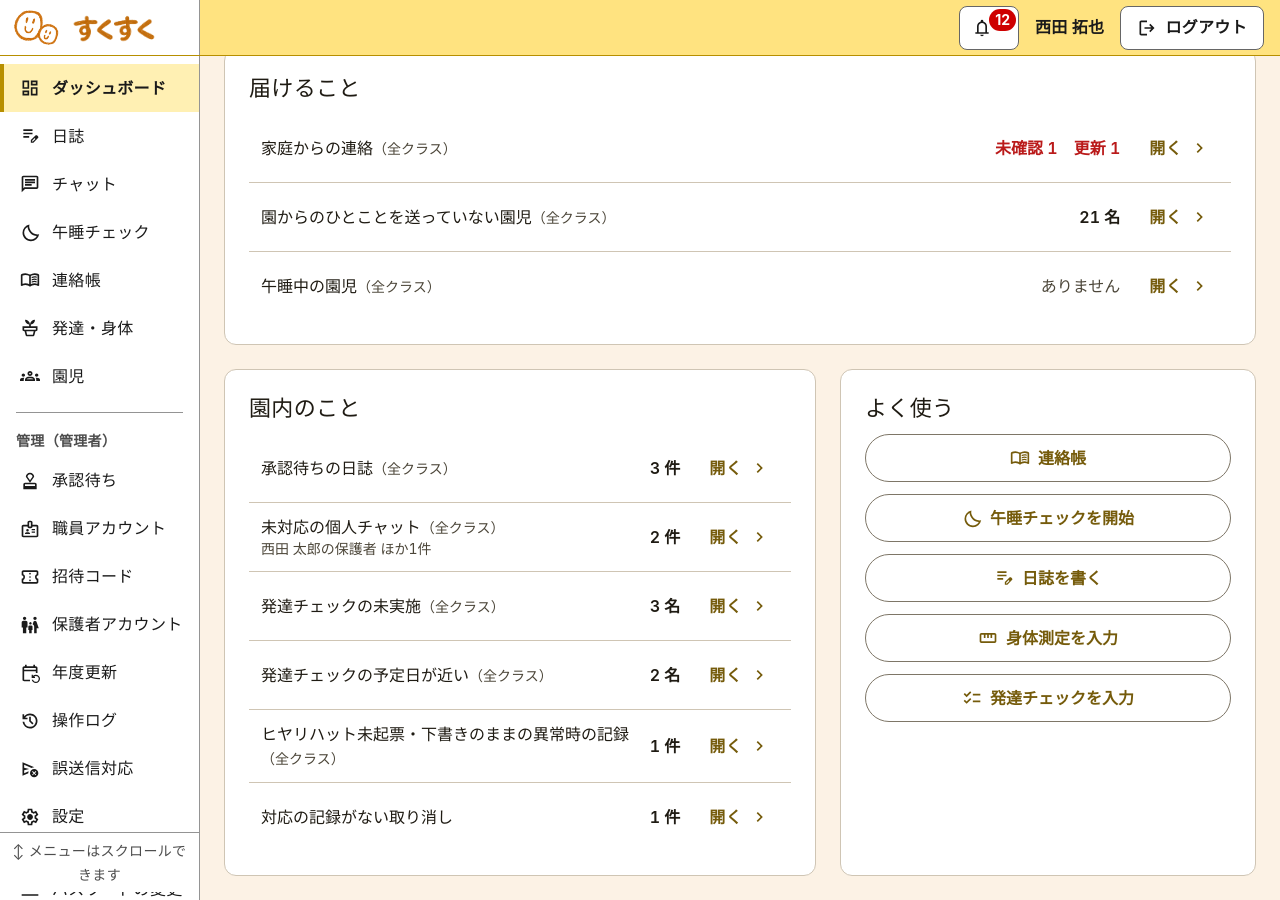
Test case: 管理者のダッシュボードの「対応の記録がない取り消し」（画面） › 管理者には件数の行を出し、「開く」で誤送信対応の記録の画面へ移る
(page scrolled)
Expected: the row "対応の記録がない取り消し 1 件 開く" is shown, [249, 782, 791, 851]
Step 1. Click the link "開く" in the row of "対応の記録がない取り消し" → {"x": 740, "y": 817}, box [709, 807, 770, 827]
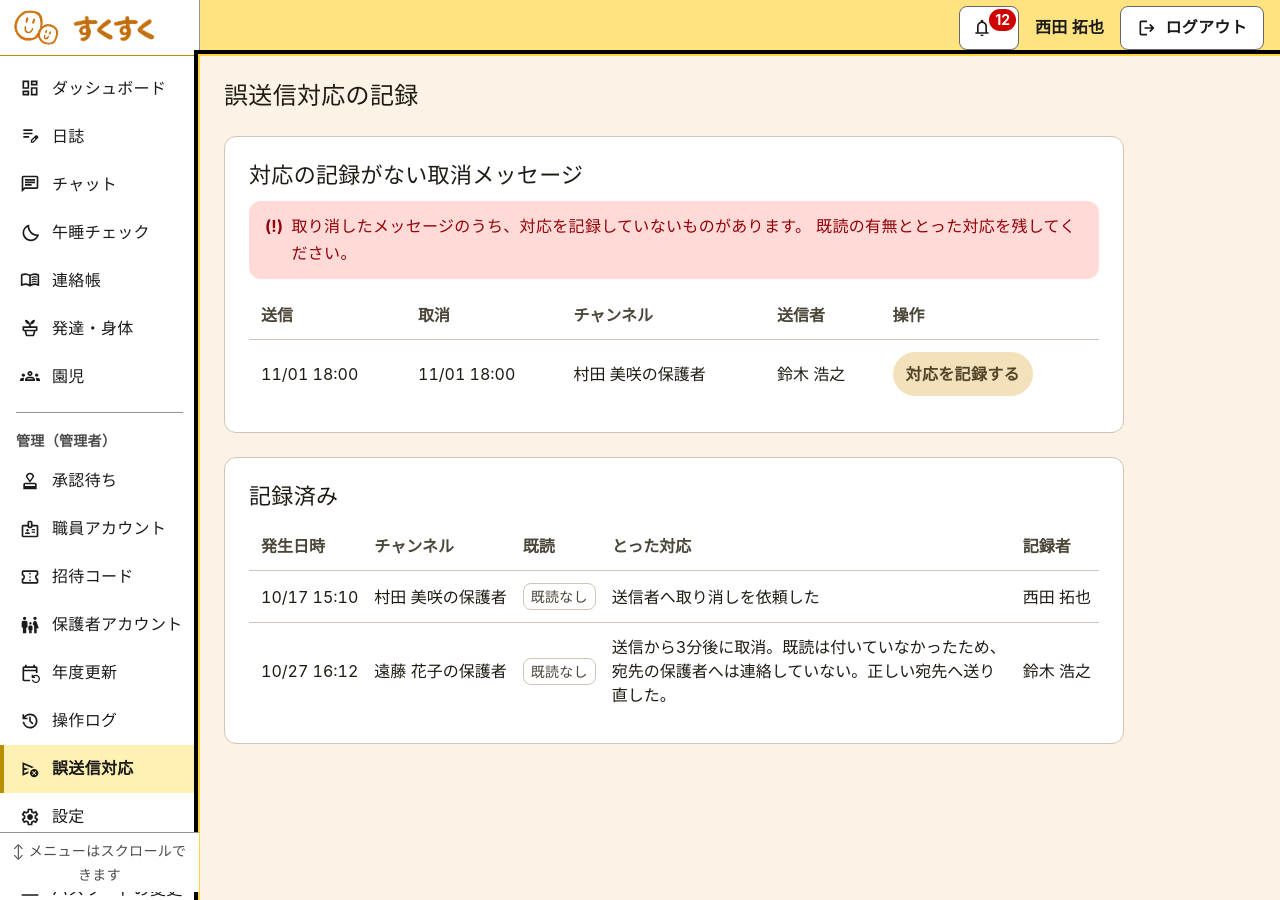
Expected: the heading "誤送信対応の記録" is shown, [224, 80, 419, 112]
